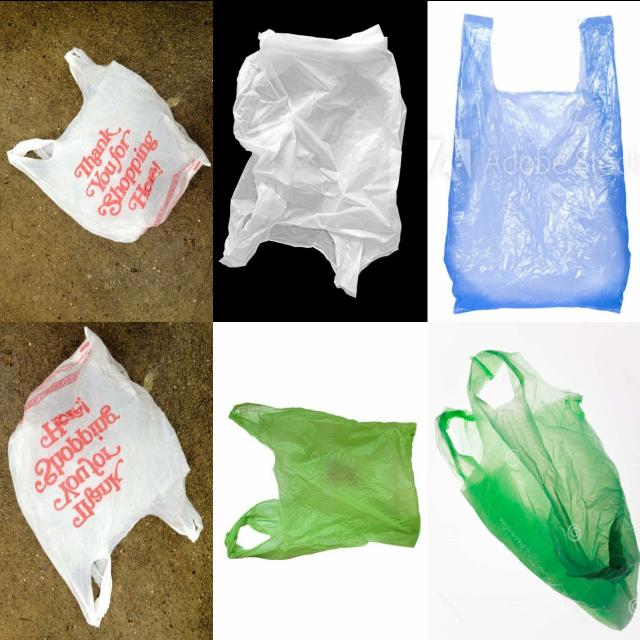plastik: (9, 327, 202, 625), (436, 350, 639, 629), (445, 14, 629, 312), (221, 25, 406, 296), (7, 48, 209, 241), (225, 403, 420, 559)
